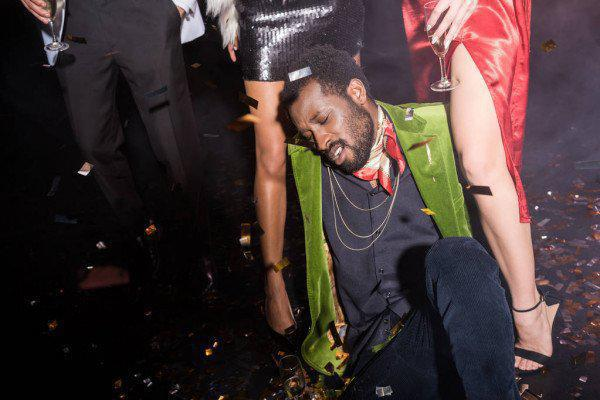Drunk: (293, 85, 366, 171)
